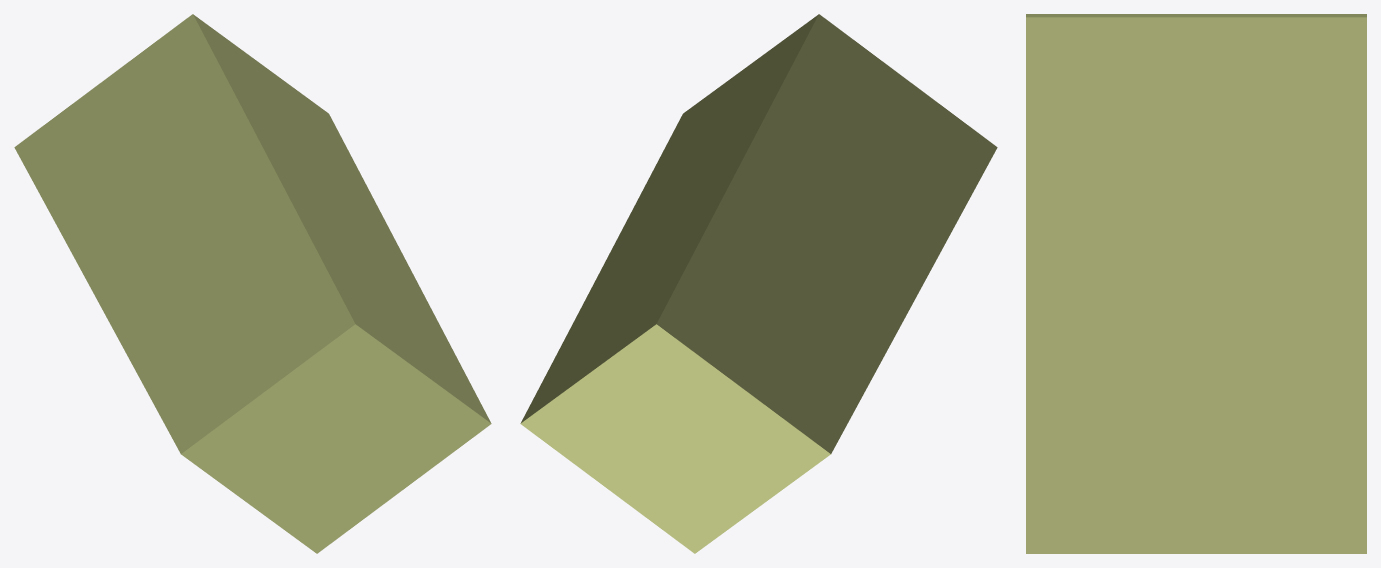
The picture shows the model from 3 angles, left to right: view 1: azimuth 30°, elevation 25°; view 2: azimuth 150°, elevation 25°; view 3: azimuth 270°, elevation 25°; orthographic projection. The views are drawn at different scales.
Parts seen in each view (by area): view 1: 0_1_0_2_0_0_1_3_3_1_2; view 2: 0_1_0_2_0_0_1_3_3_1_2; view 3: 0_1_0_2_0_0_1_3_3_1_2.
Boxes of the visible parts, x1=… form: 0_1_0_2_0_0_1_3_3_1_2: x1=14, y1=14, x2=491, y2=553; 0_1_0_2_0_0_1_3_3_1_2: x1=520, y1=14, x2=997, y2=553; 0_1_0_2_0_0_1_3_3_1_2: x1=1026, y1=14, x2=1366, y2=553.
Size of the model in its own units: 8.68 by 10.63 by 6.
